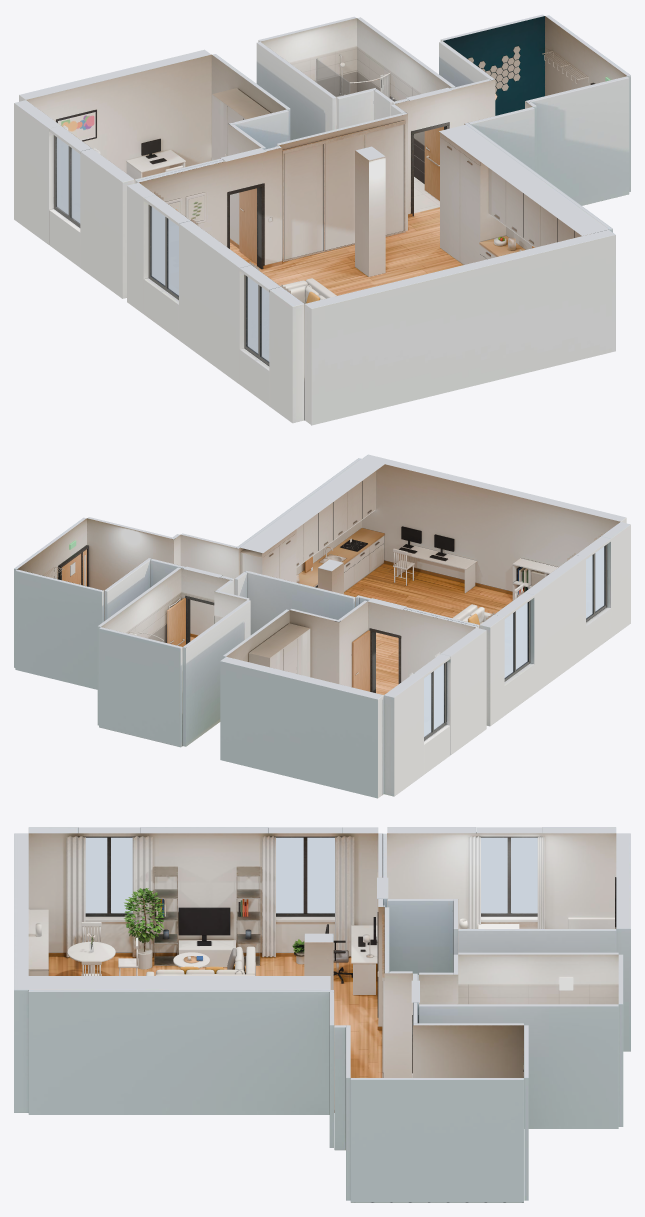
File: flat_table2_no_ceiling.glb
3 views of the same model, one above another, from view 1: azimuth 30°, elevation 25°; view 2: azimuth 150°, elevation 25°; view 3: azimuth 270°, elevation 25° (orthographic). The views are drawn at different scales.
Parts seen in each view (by area): view 1: zapec_telo_0, zapec_zdi_1, zapec_nabytek_6, zapec_podlahy_2, sklo_okno_67, sklo_okno_111, sklo_okno_74, sprchova_stena_295, zapec_nabytek_7; view 2: zapec_telo_0, zapec_zdi_1, zapec_nabytek_6, zapec_podlahy_2, zapec_nabytek_7, sklo_okno_67, sklo_okno_111, sklo_okno_74; view 3: zapec_telo_0, zapec_zdi_1, zapec_nabytek_6, zapec_zaclony_5, zapec_podlahy_2, sklo_okno_67, sklo_okno_111, sklo_okno_74, zapec_listy_4, zapec_nabytek_7.
Part boxes in pixels (x1,y1,x2,y2): zapec_telo_0: (14, 14, 630, 425); zapec_zdi_1: (26, 16, 626, 420); zapec_nabytek_6: (126, 46, 581, 303); zapec_podlahy_2: (230, 177, 462, 295); sklo_okno_67: (151, 207, 178, 295); sklo_okno_111: (57, 137, 80, 223); sklo_okno_74: (247, 277, 269, 361); sprchova_stena_295: (317, 59, 349, 96); zapec_nabytek_7: (165, 51, 610, 251); zapec_telo_0: (14, 454, 630, 798); zapec_zdi_1: (17, 458, 620, 745); zapec_nabytek_6: (70, 470, 558, 691); zapec_podlahy_2: (190, 563, 512, 694); zapec_nabytek_7: (44, 538, 523, 640); sklo_okno_67: (504, 603, 527, 677); sklo_okno_111: (424, 664, 443, 736); sklo_okno_74: (586, 546, 604, 618); zapec_telo_0: (14, 827, 630, 1202); zapec_zdi_1: (28, 832, 618, 1112); zapec_nabytek_6: (28, 866, 615, 1077); zapec_zaclony_5: (66, 836, 544, 957); zapec_podlahy_2: (48, 956, 382, 1077); sklo_okno_67: (276, 837, 334, 913); sklo_okno_111: (481, 837, 537, 913); sklo_okno_74: (85, 837, 132, 913); zapec_listy_4: (124, 888, 304, 952); zapec_nabytek_7: (35, 922, 412, 1077).
Bounding box in the file's own units: 11.92 × 2.71 × 12.3.
9 materials, 7 textured.
